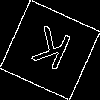K: (25, 24, 74, 80)
